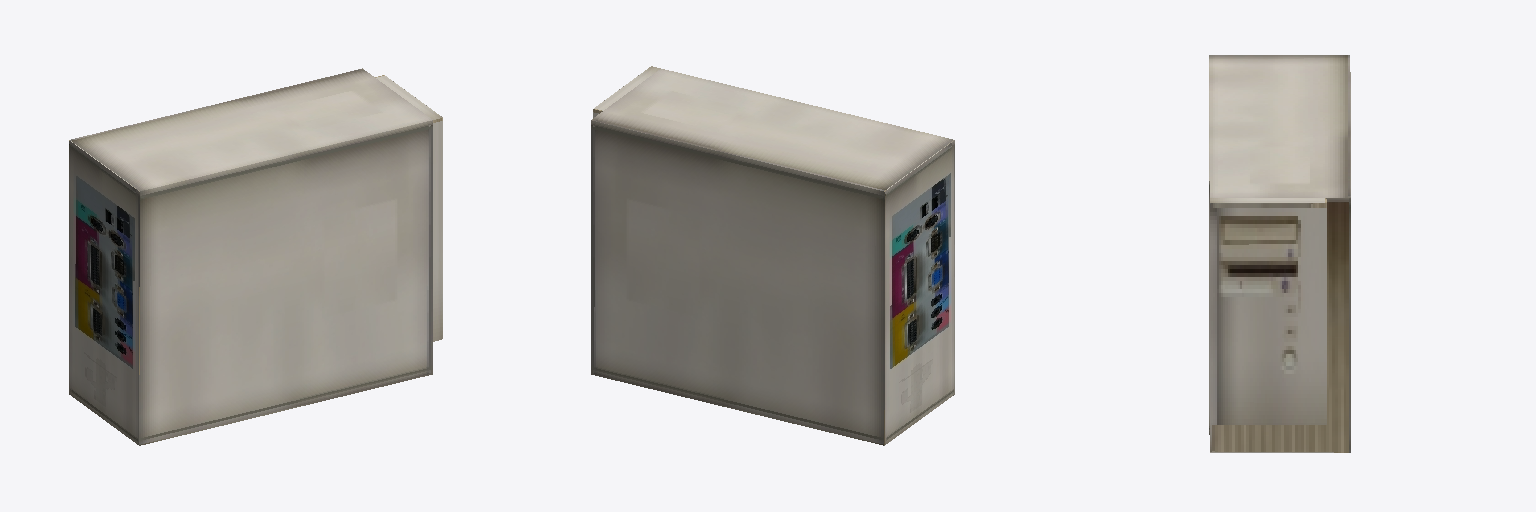
3 renders of one model, left to right at view 1: azimuth 30°, elevation 25°; view 2: azimuth 150°, elevation 25°; view 3: azimuth 270°, elevation 25°, orthographic.
Visible parts, largest first — view 1: cpu; view 2: cpu; view 3: cpu.
Part boxes in pixels (x1,y1,x2,y2): cpu: (69, 68, 442, 445); cpu: (591, 66, 954, 445); cpu: (1209, 55, 1350, 452).
Bounding box in the file's own units: 25.09 × 20.08 × 10.11.
Materials: 1 (1 with a texture image).